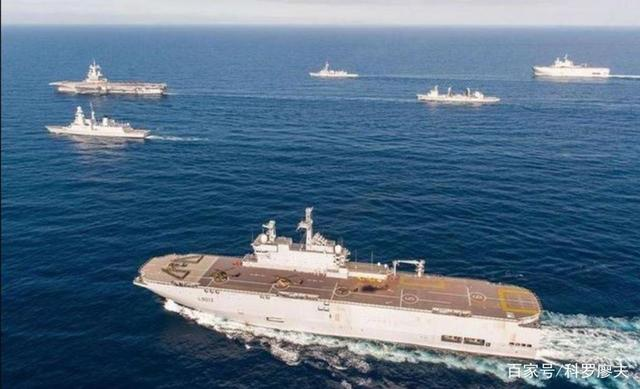warship: (133, 202, 545, 362), (47, 58, 170, 97), (43, 106, 154, 139), (414, 80, 502, 107), (528, 53, 614, 80), (309, 59, 360, 79)
